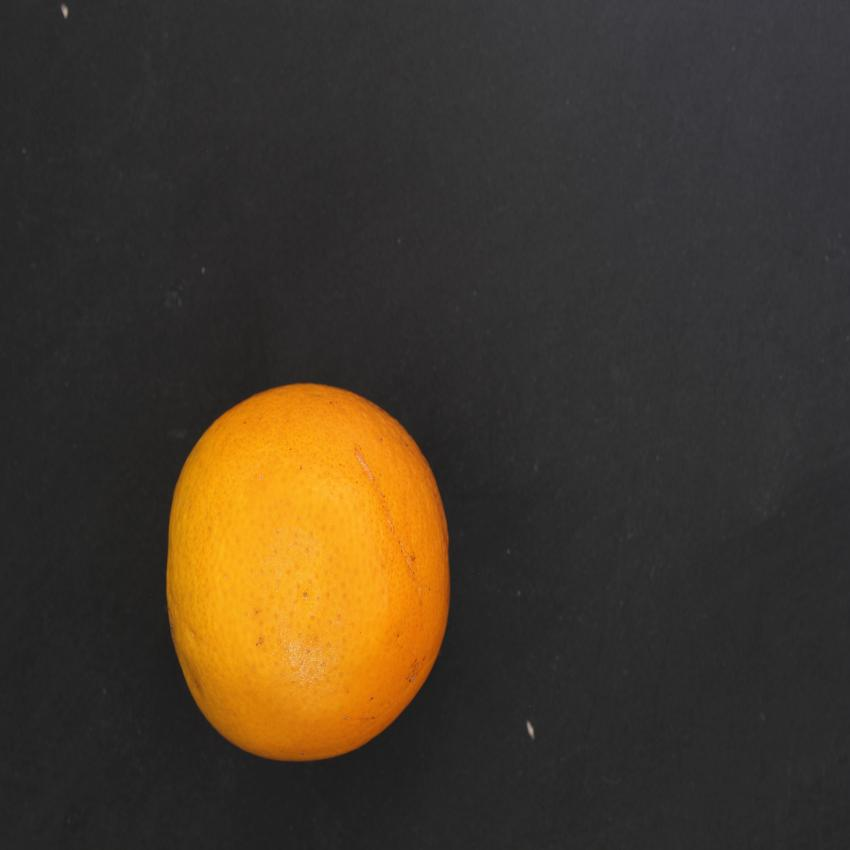Mal estado: (158, 369, 461, 778)
